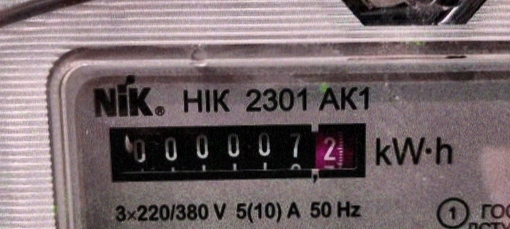0: (129, 136, 146, 164), (223, 131, 240, 158), (192, 132, 208, 160), (161, 135, 177, 162), (255, 131, 270, 159)
2: (320, 136, 336, 162)
7: (286, 130, 301, 160)
screen: (96, 115, 376, 190)
